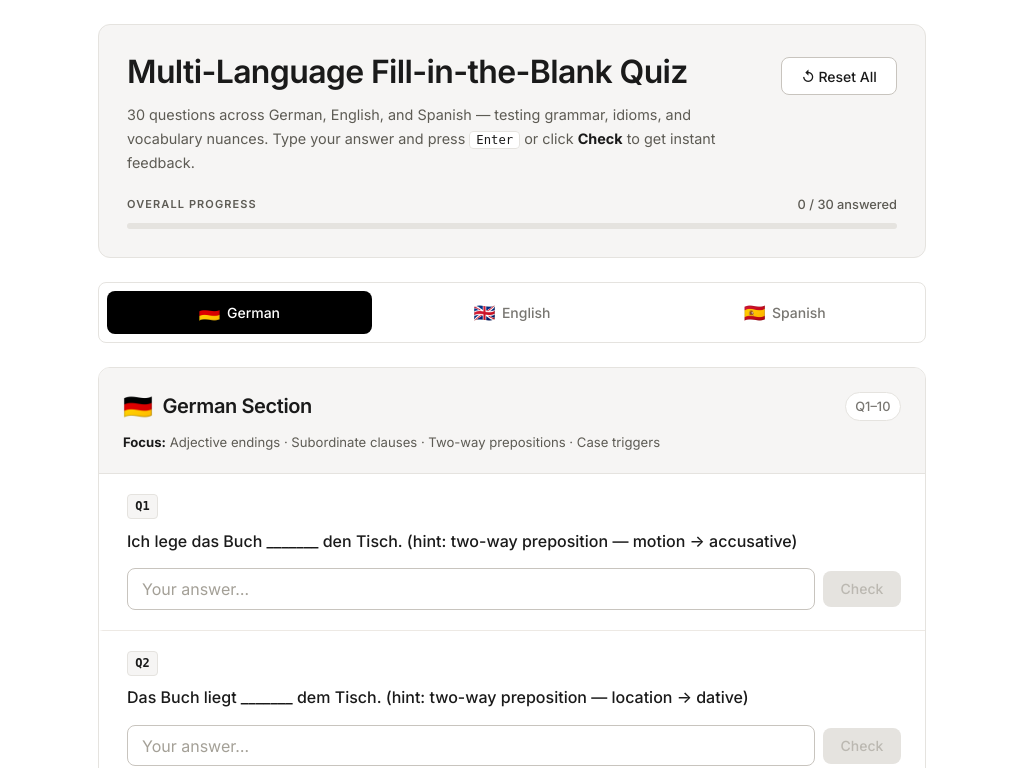
Test: QuizPage › Group 3 — Answering Correctly (Q1: "auf") › shows a ✓ Correct verdict badge
The image size is (1024, 768).
Type "auf" into the 1st field with placeholder "Your answer…" at (471, 589), box [127, 568, 815, 610]
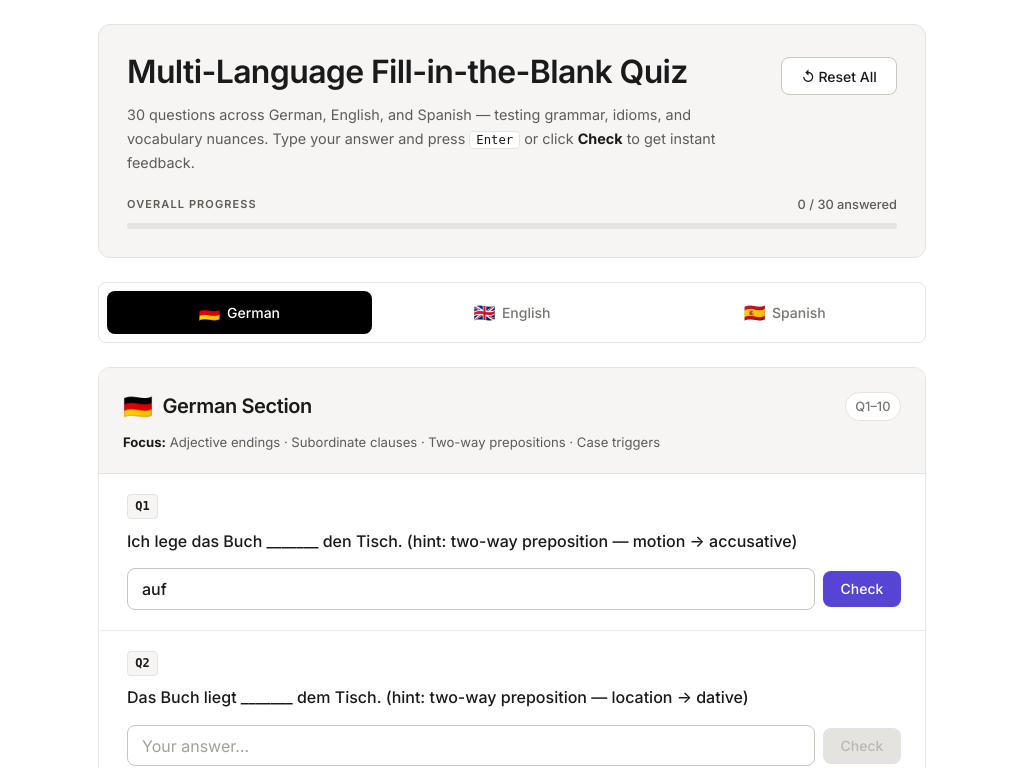
Click the 1st button "Check" at (862, 589), box [823, 571, 901, 607]
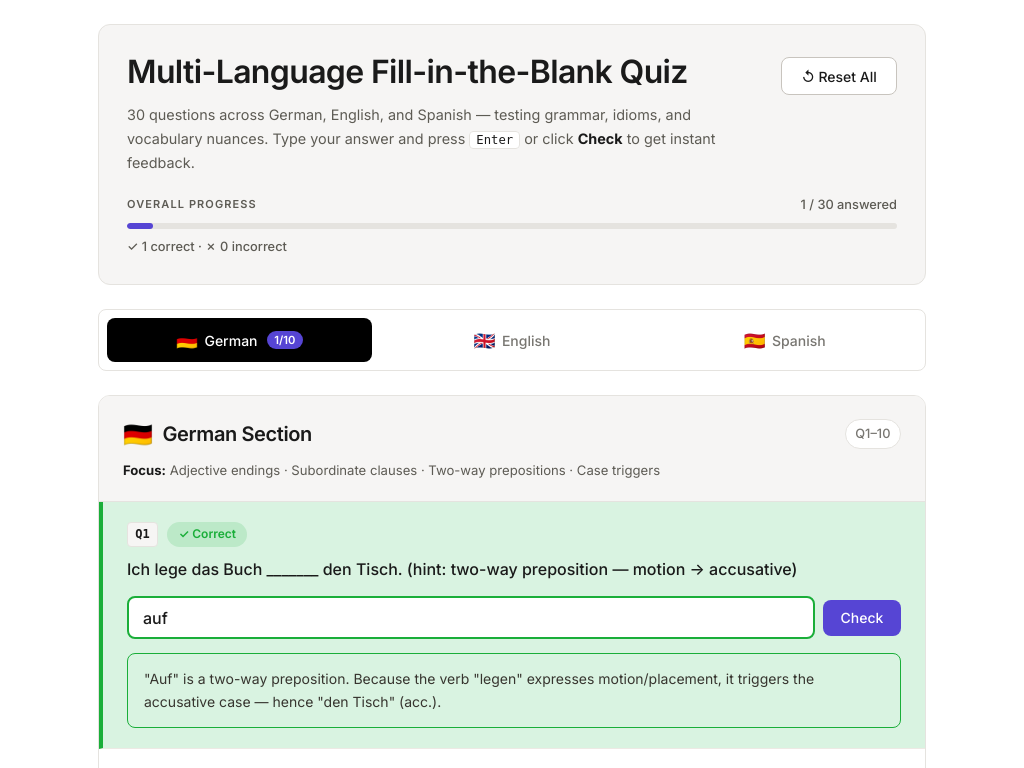
Check: the text "✓ Correct" is shown, box [167, 522, 247, 547]
